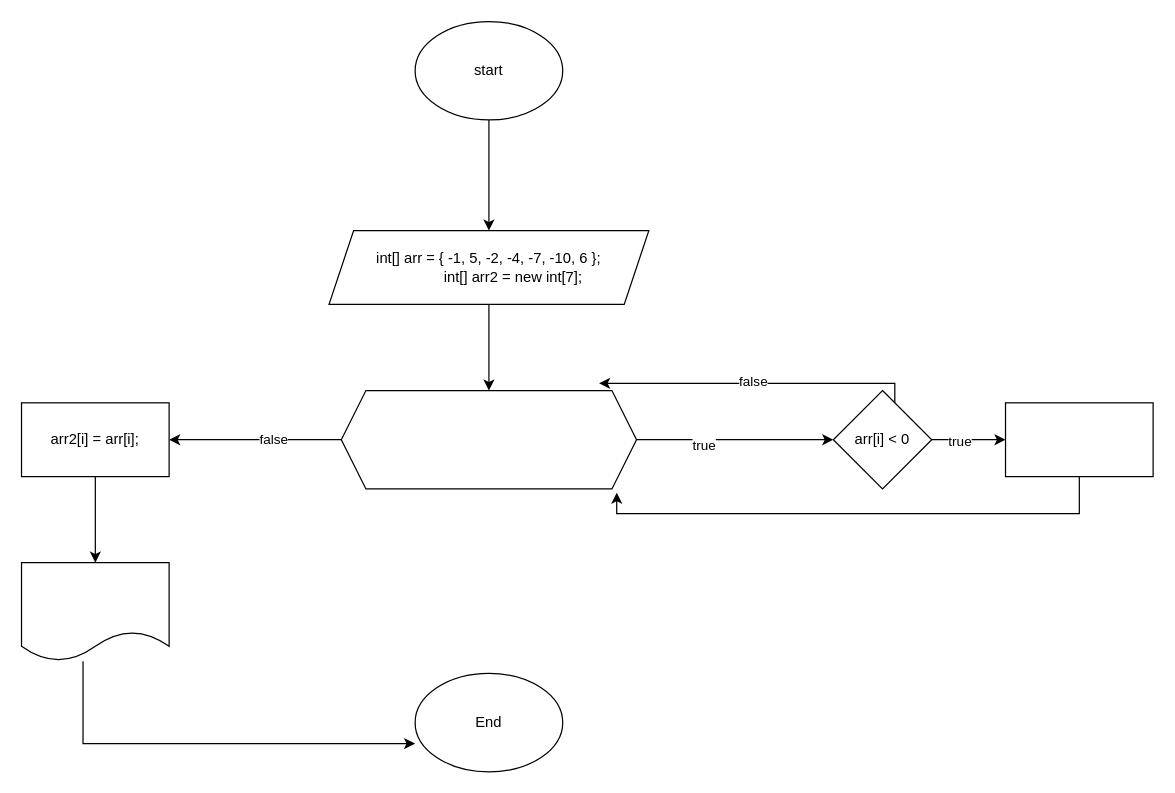
The diagram is 1175 pixels wide and 793 high, and some of its shapes have lost their labels. Here are the shapes that lost their labels. From the top down, the box of each, then its label:
(340, 389, 637, 489): int i = arr.Length-1; i >= 0; i--)
(1004, 402, 1153, 477): arr[i] *= -1;
(20, 561, 169, 661): arr2[i]
